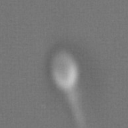normal: (57, 88, 89, 128)
